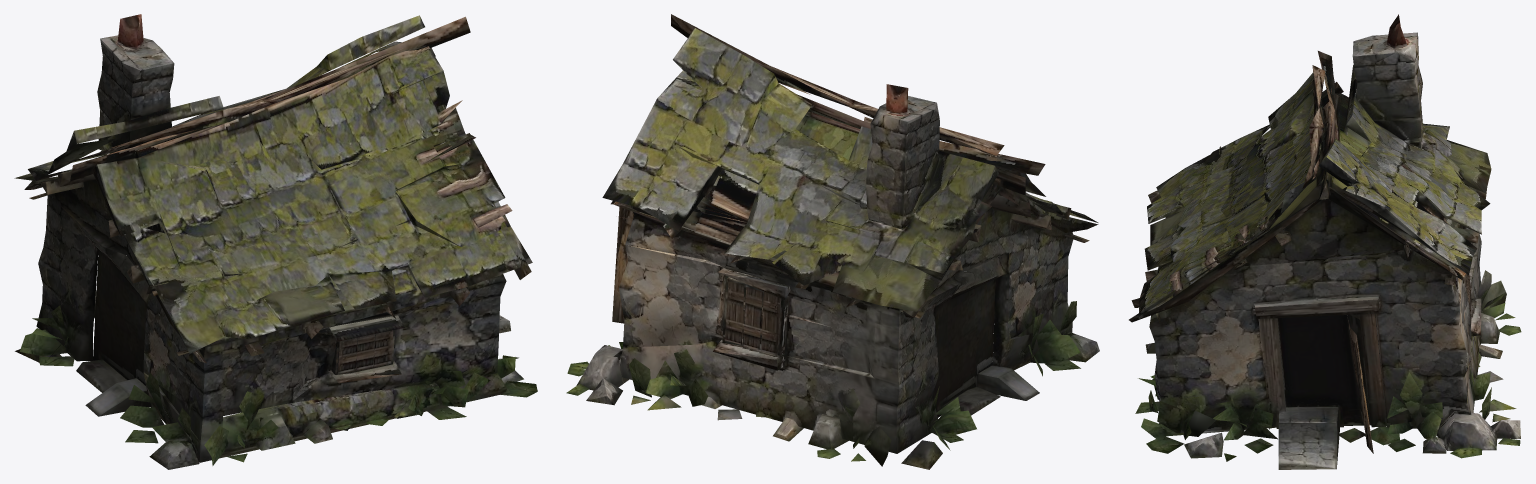
File: act1_kit_v1_farmhouse.glb
3 renders of one model, left to right at view 1: azimuth 30°, elevation 25°; view 2: azimuth 150°, elevation 25°; view 3: azimuth 270°, elevation 25°, orthographic. The views are drawn at different scales.
Visible parts, largest first — view 1: A08_3_farmhouse; view 2: A08_3_farmhouse; view 3: A08_3_farmhouse.
Boxes of the visible parts, left/top/right/bottom form: A08_3_farmhouse: left=14, top=14, right=537, bottom=469; A08_3_farmhouse: left=566, top=14, right=1099, bottom=469; A08_3_farmhouse: left=1129, top=14, right=1521, bottom=469.
Size of the model in its own units: 0.9955 by 0.7804 by 0.8778.
Materials: 1 (1 with a texture image).
